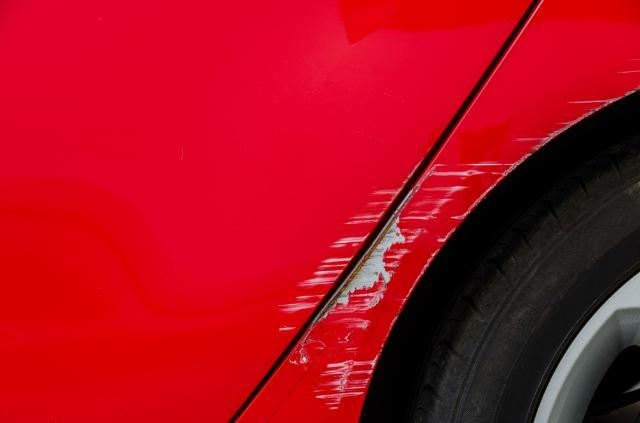scratch: (287, 57, 640, 413), (273, 159, 424, 335)
